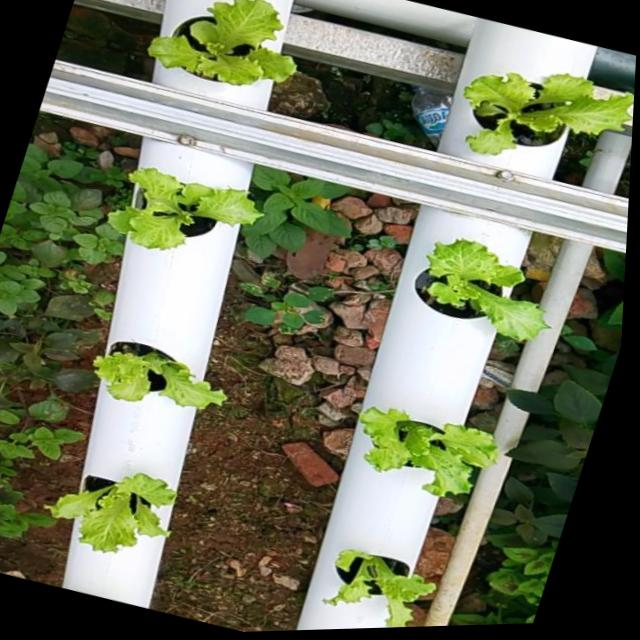Baby: (150, 1, 299, 112), (466, 81, 634, 165), (411, 239, 548, 342), (109, 171, 267, 254), (357, 408, 498, 498), (42, 473, 174, 553), (90, 341, 225, 409), (321, 550, 434, 628)
